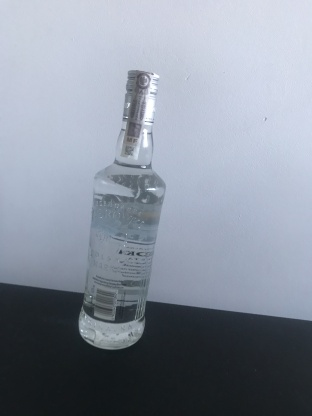nakretka: (120, 65, 161, 128)
